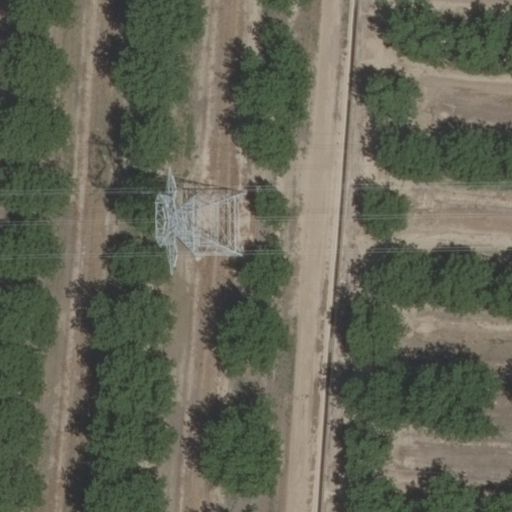TT: (150, 176, 249, 261)
